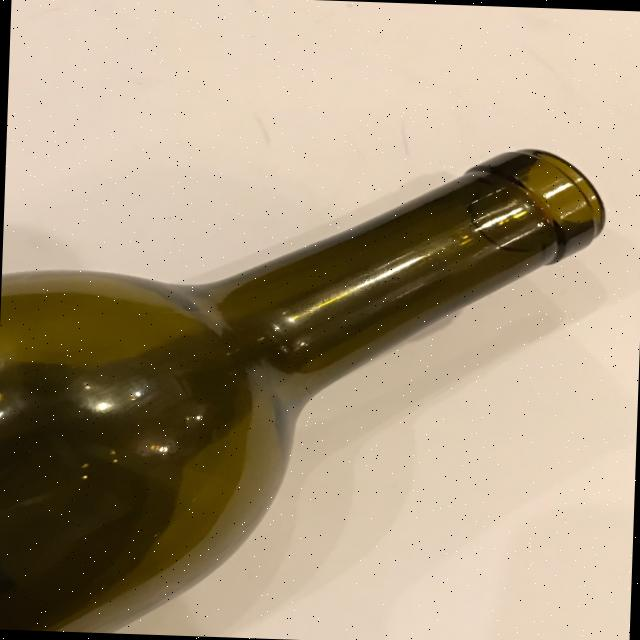glass: (0, 128, 607, 640)
